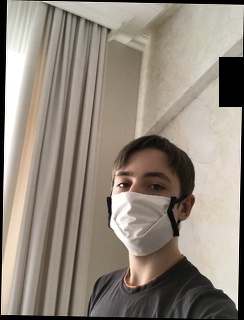with_mask: (106, 164, 180, 257)
